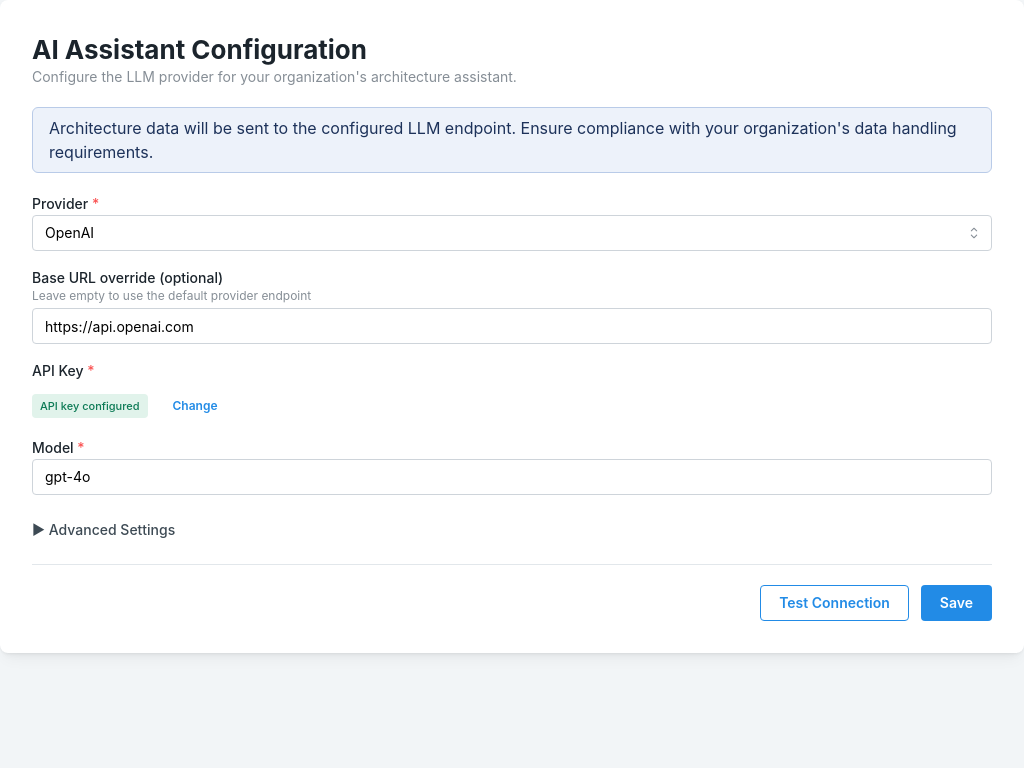
Test case: AIConfigurationSettings › shows test connection failure
Click the button "Test Connection". click: {"x": 835, "y": 603}
box: x1=760 y1=585 x2=909 y2=621
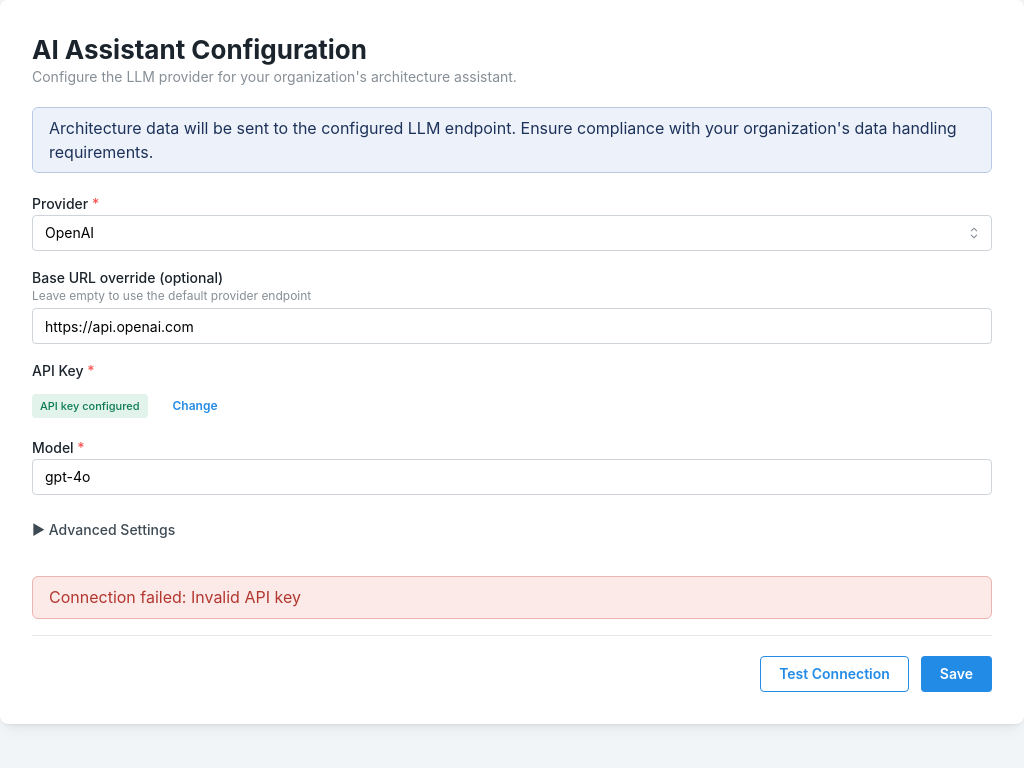
Expected: the text "Connection failed: Invalid API key" is shown, x1=32 y1=576 x2=992 y2=619
